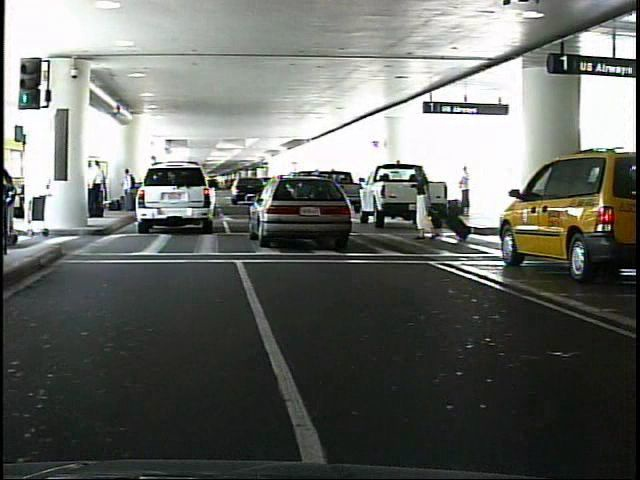person: (414, 164, 438, 244), (95, 159, 109, 218), (127, 166, 142, 218), (468, 163, 480, 210)
